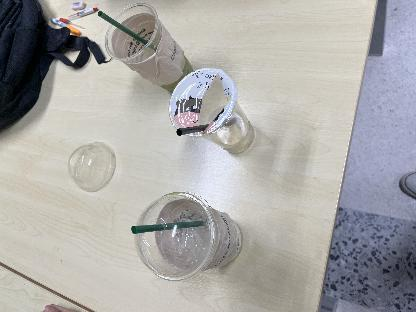Plastic Cup: (128, 194, 240, 280), (104, 4, 204, 96), (168, 68, 258, 156)
